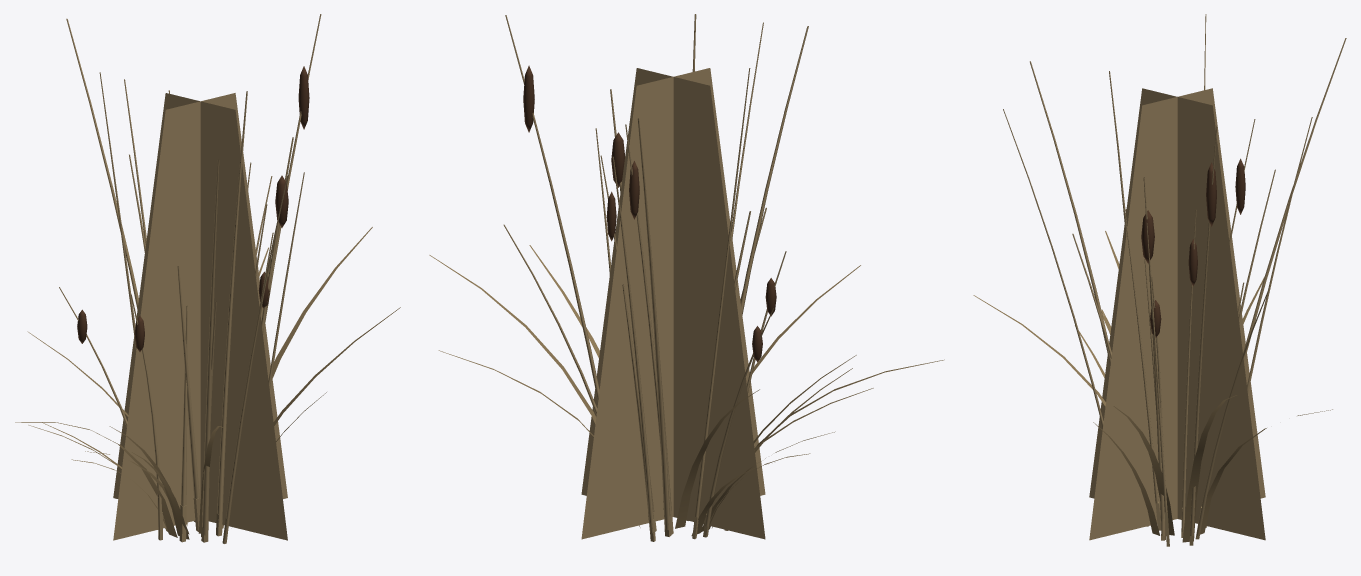
The model's file is reed_clump_2.glb.
3 views of the same model, side by side, from view 1: azimuth 30°, elevation 25°; view 2: azimuth 150°, elevation 25°; view 3: azimuth 270°, elevation 25° (orthographic). The views are drawn at different scales.
Parts seen in each view (by area): view 1: LOD_Far, ReedClump_Stalks_2, ReedClump_Stalks_0, ReedClump_Stalks_1, ReedClump_Blades_1, ReedClump_Blades_0, ReedClump_Heads_0, ReedClump_StubbleStalks, ReedClump_Blades_2, ReedClump_Heads_1, ReedClump_Heads_2; view 2: LOD_Far, ReedClump_Stalks_0, ReedClump_Stalks_1, ReedClump_Stalks_2, ReedClump_Blades_0, ReedClump_Blades_1, ReedClump_Heads_2, ReedClump_Heads_0, ReedClump_Blades_2; view 3: LOD_Far, ReedClump_Stalks_2, ReedClump_Stalks_1, ReedClump_Stalks_0, ReedClump_Blades_1, ReedClump_Heads_2, ReedClump_Blades_2, ReedClump_Heads_0.
Part boxes in pixels (x1,y1,x2,y2): LOD_Far: (113, 93, 287, 540); ReedClump_Stalks_2: (168, 90, 293, 539); ReedClump_Stalks_0: (66, 14, 321, 536); ReedClump_Stalks_1: (59, 79, 304, 498); ReedClump_Blades_1: (132, 227, 372, 539); ReedClump_Blades_0: (15, 331, 187, 537); ReedClump_Heads_0: (134, 66, 309, 351); ReedClump_StubbleStalks: (158, 497, 227, 543); ReedClump_Blades_2: (71, 307, 400, 534); ReedClump_Heads_1: (77, 271, 269, 343); ReedClump_Heads_2: (275, 175, 288, 227); LOD_Far: (581, 68, 765, 539); ReedClump_Stalks_0: (505, 15, 786, 529); ReedClump_Stalks_1: (503, 128, 774, 534); ReedClump_Stalks_2: (600, 14, 808, 454); ReedClump_Blades_0: (675, 355, 944, 535); ReedClump_Blades_1: (429, 255, 860, 527); ReedClump_Heads_2: (606, 132, 639, 241); ReedClump_Heads_0: (523, 65, 776, 316); ReedClump_Blades_2: (529, 245, 873, 529); LOD_Far: (1089, 88, 1265, 540); ReedClump_Stalks_2: (1003, 61, 1255, 531); ReedClump_Stalks_1: (1125, 117, 1312, 535); ReedClump_Stalks_0: (1072, 14, 1346, 535); ReedClump_Blades_1: (973, 295, 1332, 542); ReedClump_Heads_2: (1141, 158, 1245, 286); ReedClump_Blades_2: (1093, 309, 1174, 535); ReedClump_Heads_0: (1206, 162, 1216, 226).
Size of the model in its own units: 1.7 by 1.77 by 1.28.
